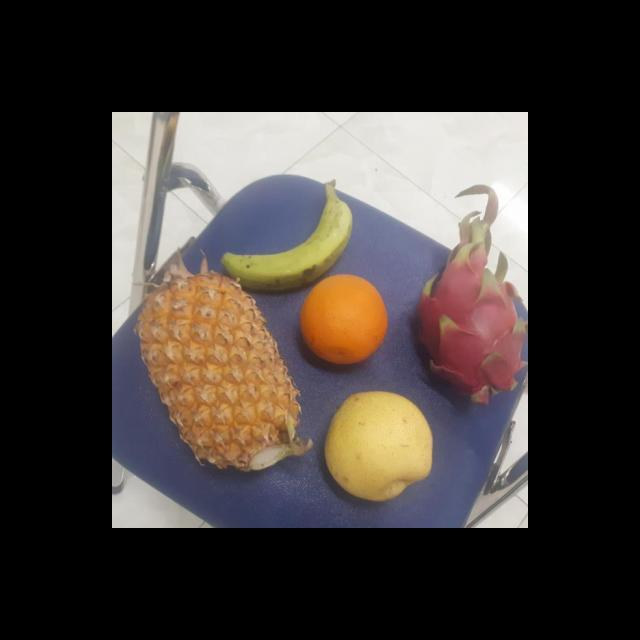banana: (216, 186, 352, 290)
orange: (294, 274, 392, 368)
pear: (318, 393, 438, 506)
pineapple: (132, 276, 306, 468)
pitaya: (412, 253, 528, 412)
